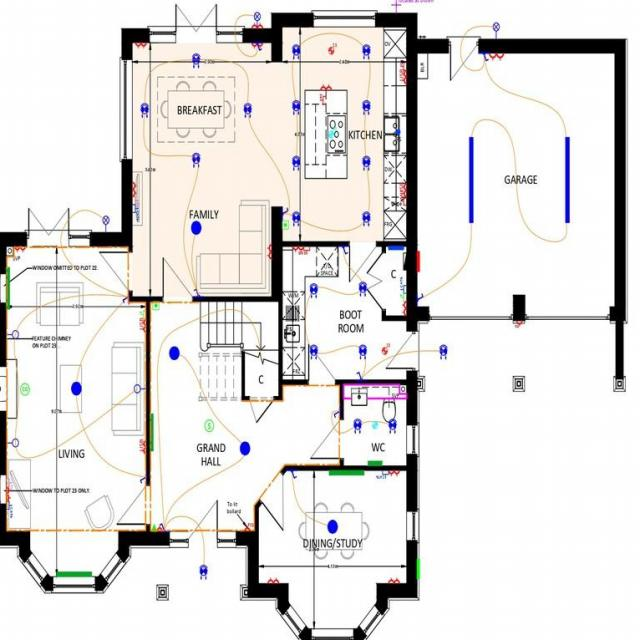BT Entry Point: (152, 515, 159, 534)
Cat 6 Data Socket: (132, 203, 145, 221), (374, 470, 392, 480), (6, 500, 16, 516), (399, 277, 408, 293)
Ceiling Mounted Continuous Extract Fan With Boost Mode Activated By Light Switch: (369, 418, 382, 431)
Ceiling Mounted Continuous Extract Fan With Local Boost Switch: (324, 39, 342, 57), (377, 340, 395, 356)
Co-Ax TV Socket: (132, 194, 145, 205), (7, 474, 16, 486)
Consumer Unit: (400, 250, 409, 272)
Double Socket: (488, 48, 509, 61), (261, 240, 274, 260), (13, 240, 29, 256), (133, 38, 149, 52), (316, 80, 336, 90), (6, 485, 18, 501), (132, 178, 143, 195), (265, 574, 286, 582), (400, 301, 410, 316), (387, 575, 403, 584), (247, 41, 266, 48), (390, 467, 401, 478), (248, 22, 266, 28), (291, 244, 304, 252)
Electric Meter Box: (416, 248, 424, 278)
External Wall Light: (97, 214, 115, 230), (249, 10, 265, 28), (489, 19, 503, 36)
Fused spur: (242, 516, 256, 532)
Gas Meter Box: (416, 551, 425, 585)
Hob Switch: (303, 243, 315, 257), (397, 60, 412, 68)
Internal Wall Light: (8, 430, 20, 459), (8, 327, 22, 348), (133, 382, 147, 398)
Light Switch: (345, 365, 374, 379), (191, 285, 207, 297), (120, 292, 130, 308), (138, 471, 148, 486), (256, 39, 266, 54), (480, 50, 493, 61), (337, 245, 350, 256), (287, 470, 301, 480), (332, 407, 342, 421), (418, 288, 425, 304), (283, 205, 291, 217), (160, 520, 170, 529)
Low Energy Downlighter: (186, 48, 208, 71), (281, 150, 306, 170), (360, 94, 377, 123), (284, 97, 304, 119), (358, 204, 377, 227), (433, 340, 449, 366), (238, 99, 256, 122), (354, 278, 371, 302), (196, 561, 214, 583), (285, 41, 305, 59), (308, 339, 321, 366), (355, 339, 369, 364), (138, 100, 151, 126), (360, 38, 374, 62), (186, 152, 204, 170), (345, 417, 364, 434), (360, 153, 375, 173), (292, 206, 305, 227), (309, 281, 321, 301), (386, 417, 399, 435)
Low Energy Pendant Light: (165, 339, 187, 363), (318, 518, 344, 535), (238, 437, 257, 459), (68, 380, 87, 400), (187, 217, 205, 236)
Mains Wired Smoke Detector: (204, 417, 214, 434)
Outside Socket: (513, 319, 530, 331)
Outside Tap: (384, 0, 434, 12)
Oven Switch: (317, 90, 328, 107), (397, 197, 408, 208)
Programmable Room Thermostat: (151, 299, 163, 313), (282, 219, 290, 234)
Radiator: (6, 264, 16, 313), (327, 468, 368, 479), (150, 408, 159, 458), (51, 567, 97, 575), (362, 458, 388, 464)
Recirculating Extractor Fan: (321, 123, 341, 139)
Single Socket: (156, 520, 163, 533)
Telephone Socket: (139, 308, 148, 318), (399, 292, 410, 300)
Twin LED Strip Light: (458, 133, 484, 226), (558, 133, 577, 228)
USB Double Socket: (395, 69, 409, 86), (139, 434, 148, 460), (399, 180, 408, 196), (140, 316, 146, 337)
Underfloor Heating Manifold: (387, 242, 408, 250)
Water Entry Position: (392, 125, 403, 136)
